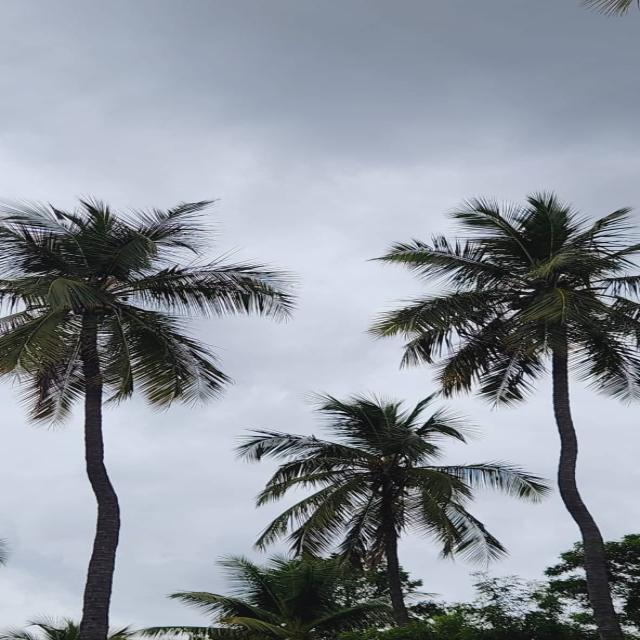Coconut-tree: (382, 202, 640, 640), (0, 221, 234, 640), (240, 415, 493, 640)
